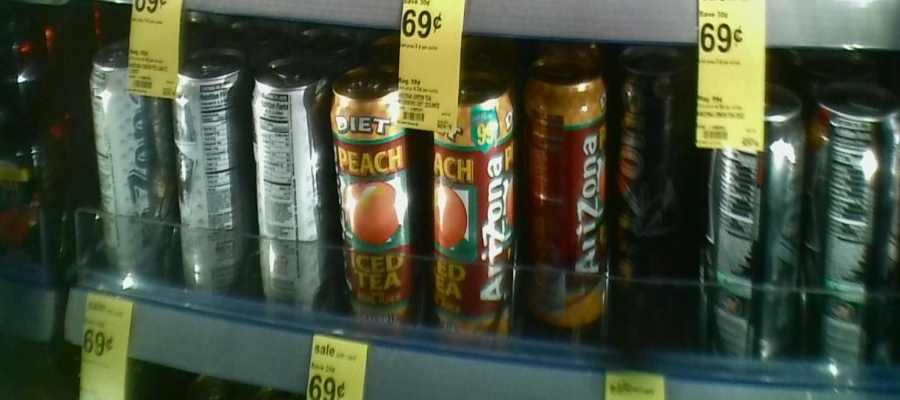bottle: (698, 81, 807, 387), (809, 64, 900, 389), (421, 60, 518, 353), (522, 56, 609, 342), (331, 66, 417, 337), (172, 40, 250, 317), (90, 32, 169, 295), (253, 50, 328, 321), (613, 46, 690, 250)
